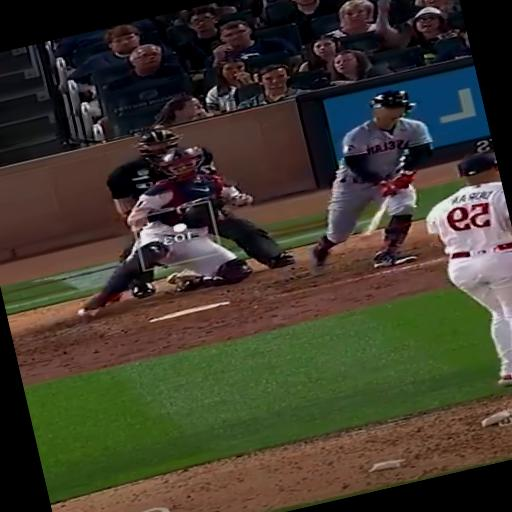bat: (360, 197, 388, 236)
